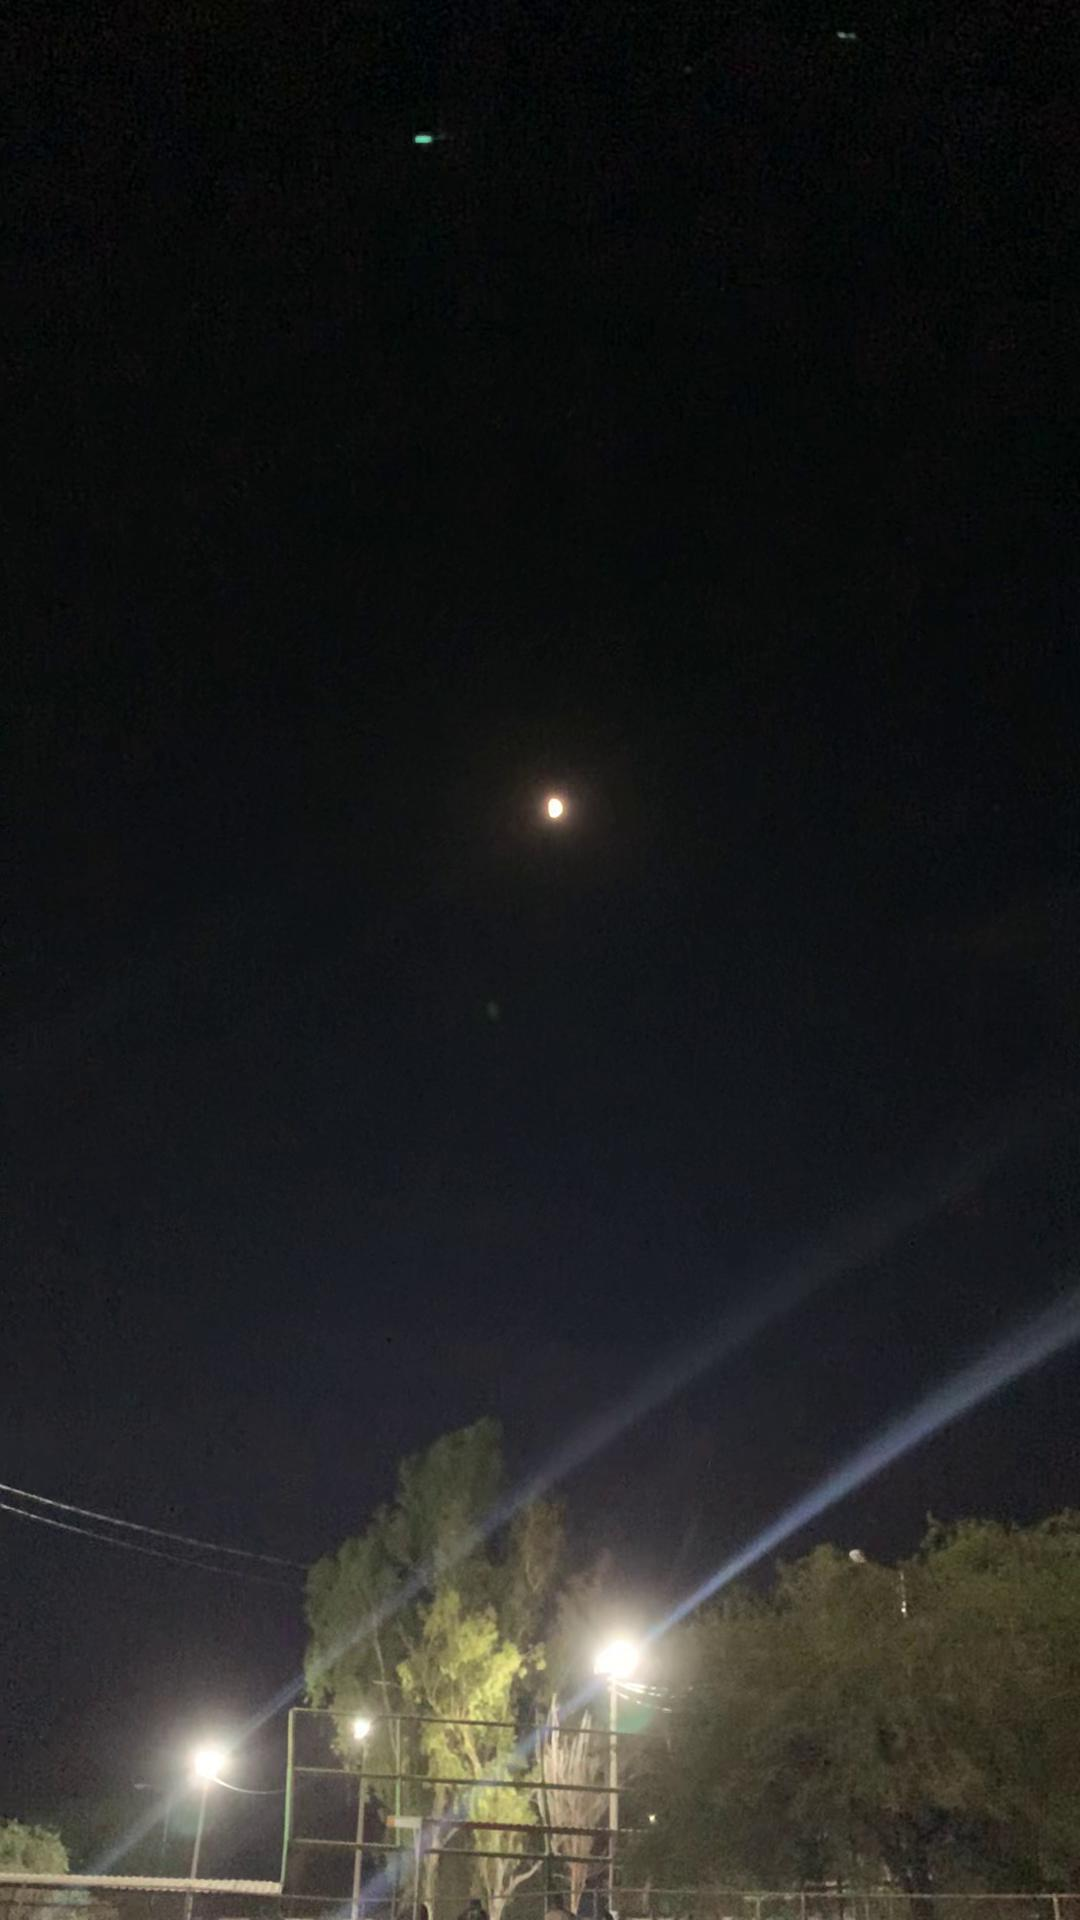moon: (516, 767, 595, 856)
